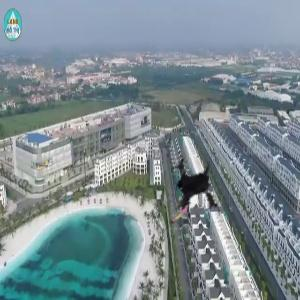drone: (141, 147, 232, 238)
